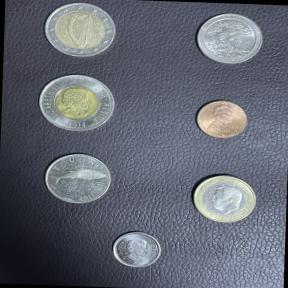1 Euro-B: (187, 172, 259, 226)
2 Euro-B: (39, 0, 121, 62)
Canada-10cent-B: (109, 230, 164, 273)
Canada-2Dollar-B: (33, 68, 120, 136)
Croatia-2Kune-B: (40, 148, 114, 206)
US-1cent-B: (190, 96, 252, 142)
US-25cent-B: (192, 9, 266, 68)
